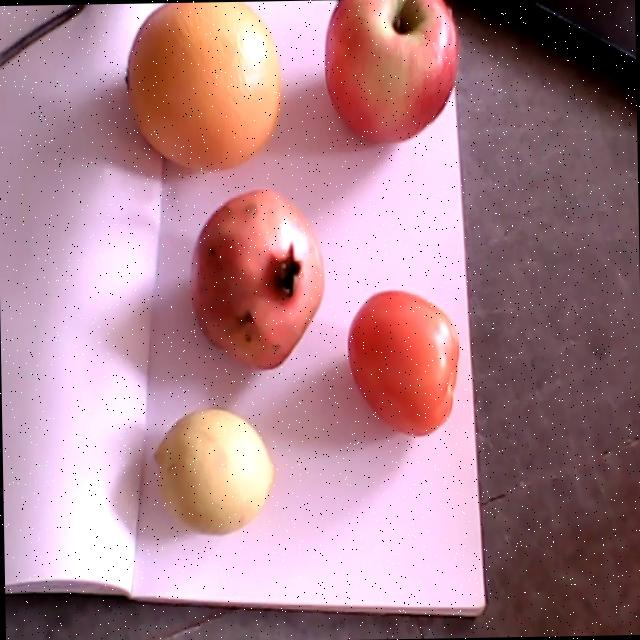apple: (325, 0, 457, 144)
lemon: (153, 406, 276, 534)
orange: (126, 1, 280, 172)
pomegranate: (191, 187, 325, 369)
tomato: (349, 289, 459, 435)
